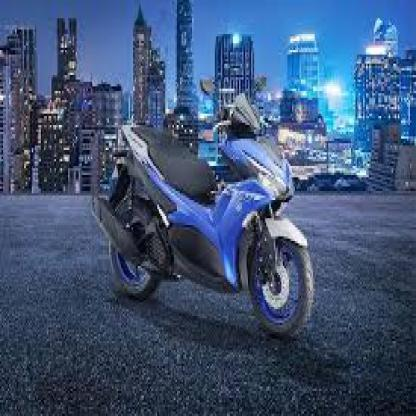Motorcycle: (87, 68, 324, 350)
